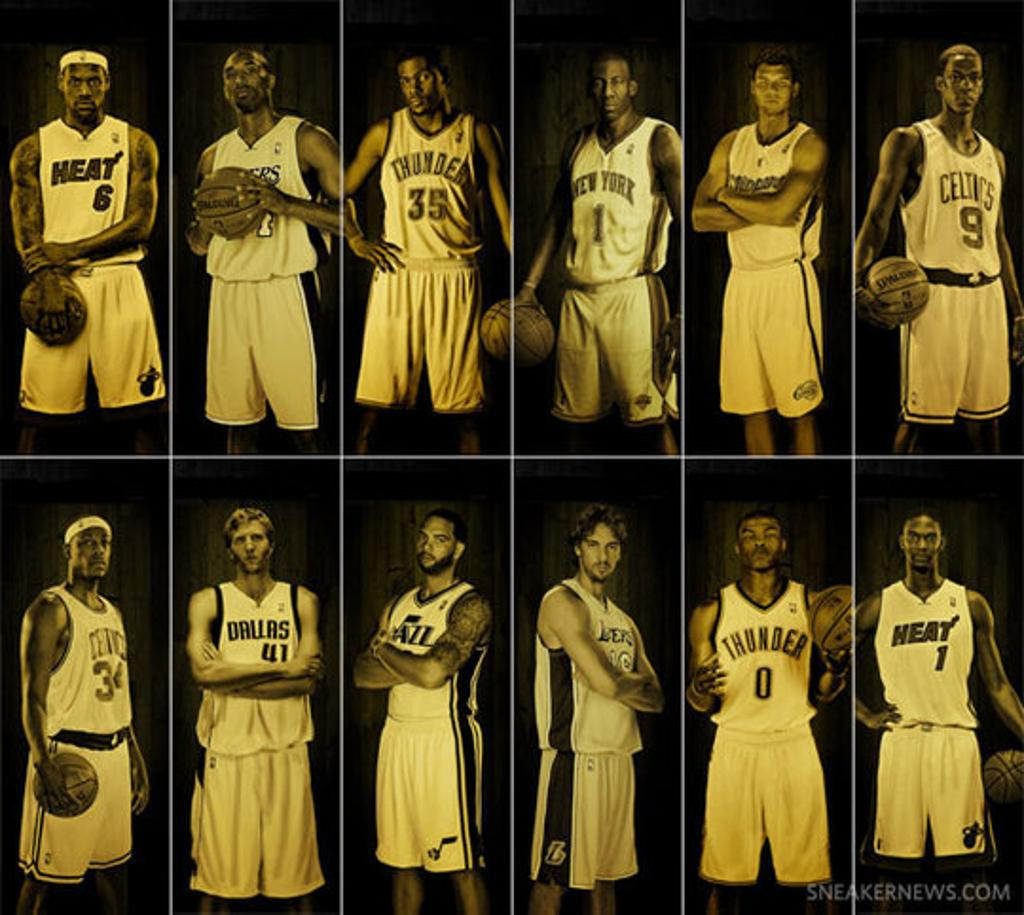face: (580, 519, 622, 582), (590, 59, 632, 120), (65, 61, 107, 121), (225, 54, 268, 111), (399, 58, 443, 113), (70, 523, 111, 581), (738, 518, 783, 569), (232, 517, 272, 574), (946, 53, 982, 116), (754, 61, 793, 119), (905, 515, 941, 571), (418, 518, 456, 569)
